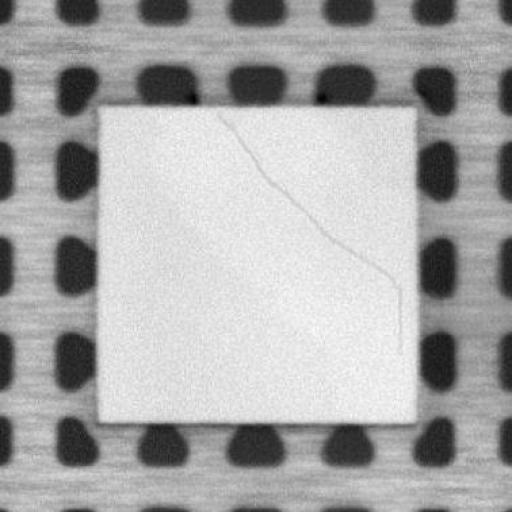DIE_CRACK: (217, 112, 405, 358)
